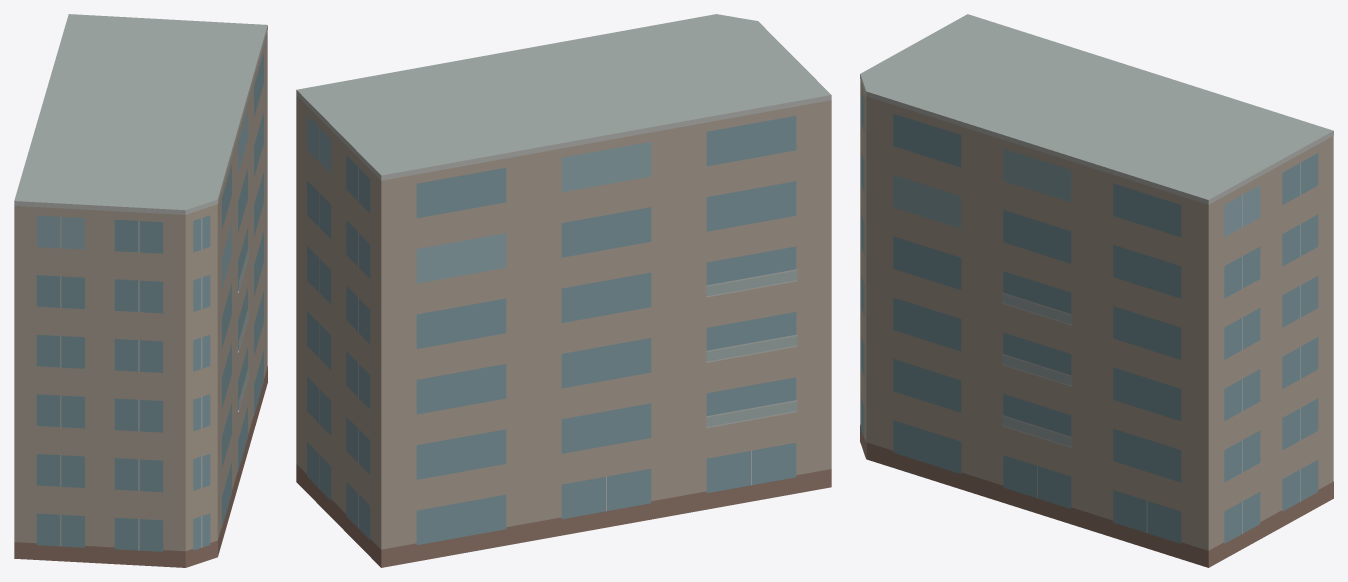
The model's file is survey-upis-32960619.glb.
The picture shows the model from 3 angles, left to right: view 1: azimuth 30°, elevation 25°; view 2: azimuth 150°, elevation 25°; view 3: azimuth 270°, elevation 25°; orthographic projection. The views are drawn at different scales.
Parts seen in each view (by area): view 1: survey-upis-32960619.tmp; view 2: survey-upis-32960619.tmp; view 3: survey-upis-32960619.tmp.
Part boxes in pixels (left/top/right/bottom): survey-upis-32960619.tmp: left=14, top=14, right=267, bottom=567; survey-upis-32960619.tmp: left=296, top=14, right=831, bottom=567; survey-upis-32960619.tmp: left=860, top=14, right=1333, bottom=567.
Bounding box in the file's own units: 19.86 × 18.3 × 21.36.
